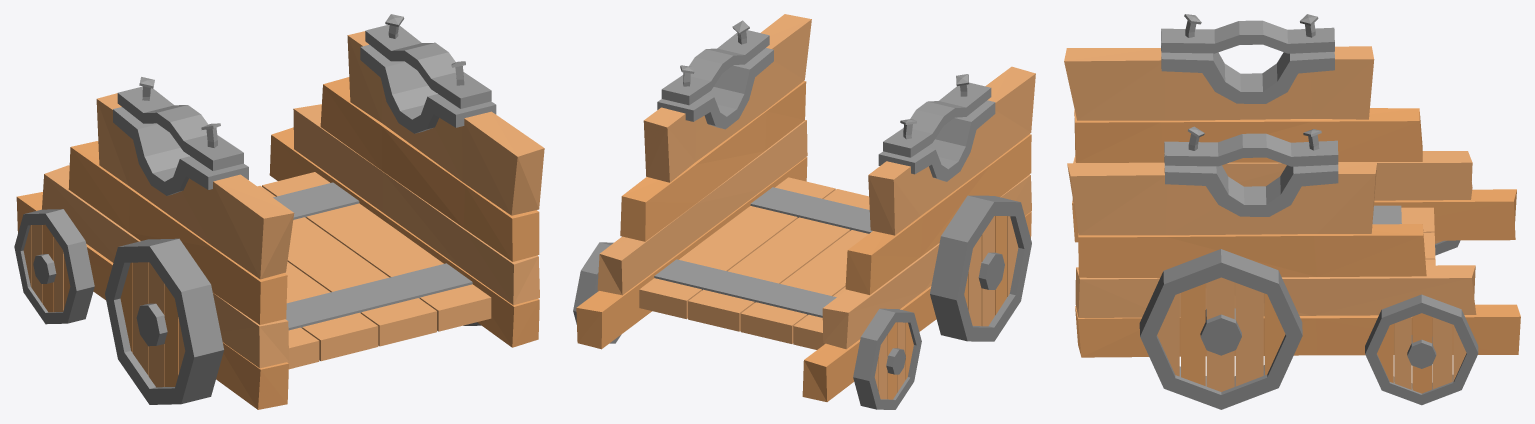
The model's file is cannon.02.fbx.
3 views of the same model, side by side, from view 1: azimuth 30°, elevation 25°; view 2: azimuth 150°, elevation 25°; view 3: azimuth 270°, elevation 25° (orthographic). The views are drawn at different scales.
Parts seen in each view (by area): view 1: cannon.02; view 2: cannon.02; view 3: cannon.02.
Boxes of the visible parts, x1,y1,x2,y2 form: cannon.02: (14, 14, 544, 409); cannon.02: (573, 14, 1035, 409); cannon.02: (1064, 14, 1520, 409).
Size of the model in its own units: 1.34 by 1.03 by 1.63.
